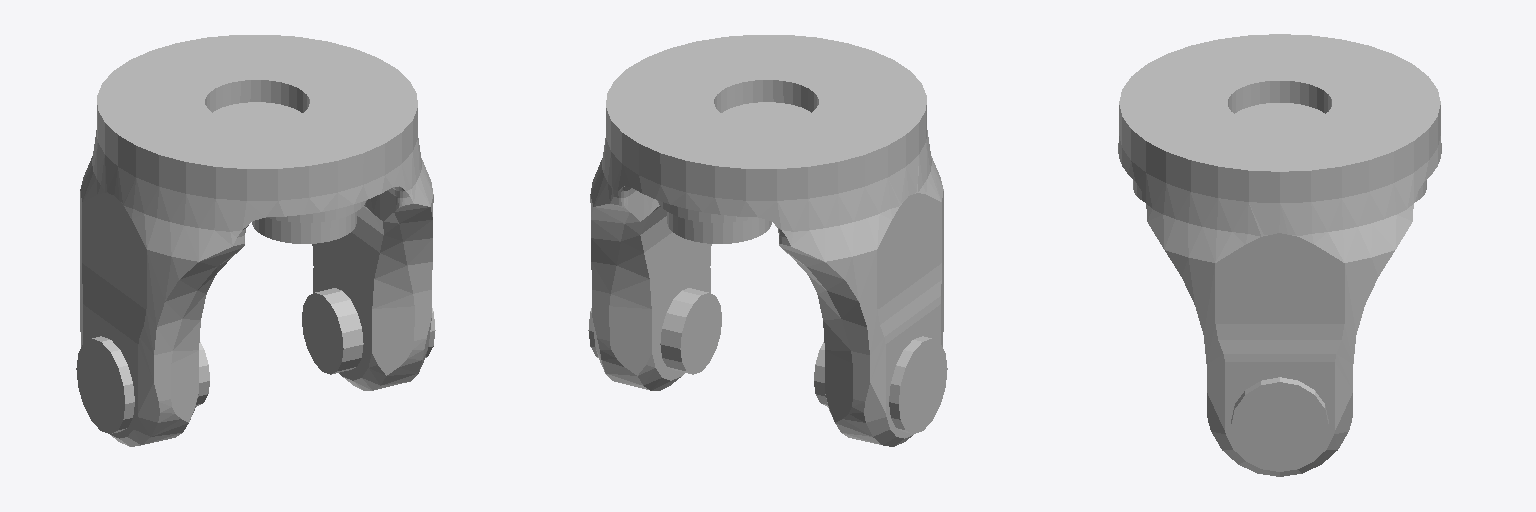
File: geo-2d585bec-fd0f-4a57-8600-37c6c03440b6.obj
The picture shows the model from 3 angles: view 1: azimuth 30°, elevation 25°; view 2: azimuth 150°, elevation 25°; view 3: azimuth 270°, elevation 25°; orthographic projection.
Visible parts, largest first — view 1: 0; view 2: 0; view 3: 0.
Part boxes in pixels (left/top/right/bottom): 0: left=76, top=35, right=435, bottom=446; 0: left=588, top=35, right=947, bottom=446; 0: left=1118, top=34, right=1441, bottom=476.
Size of the model in its own units: 51.29 by 48.78 by 46.31.